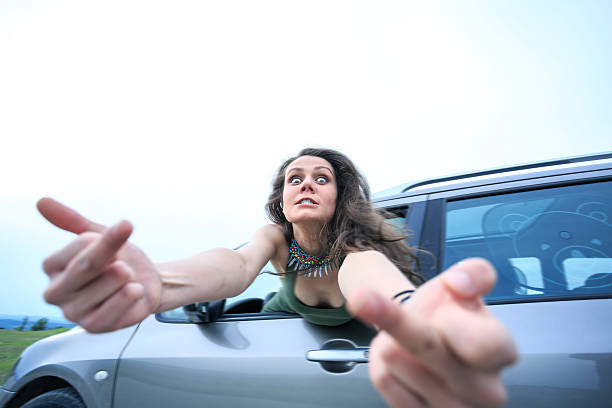insulting_gesture: (349, 256, 522, 408), (28, 198, 165, 334)
